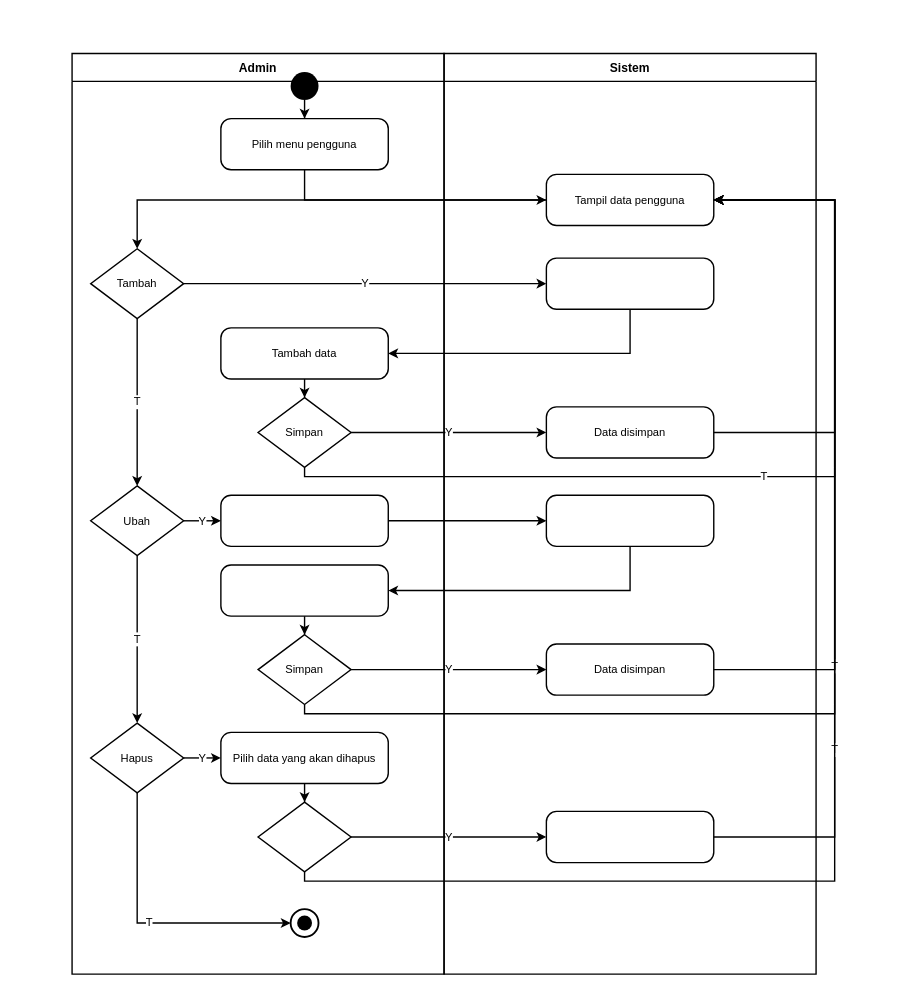
This 915x1008 diagram has some shape labels left out. Each missing label, with the centre of its shape:
"Data dihapus" goes at pixel 629 836.
"Pilih data yang di ubah" goes at pixel 304 520.
"Tampil form tambah" goes at pixel 629 283.
"Tampil form ubah" goes at pixel 629 520.
"Ubah data" goes at pixel 304 590.
"yakin hapus" goes at pixel 304 836.
